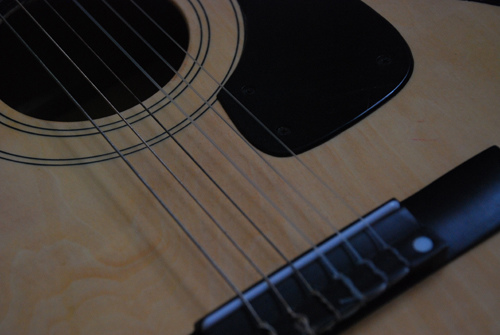guitar: (1, 1, 500, 335)
